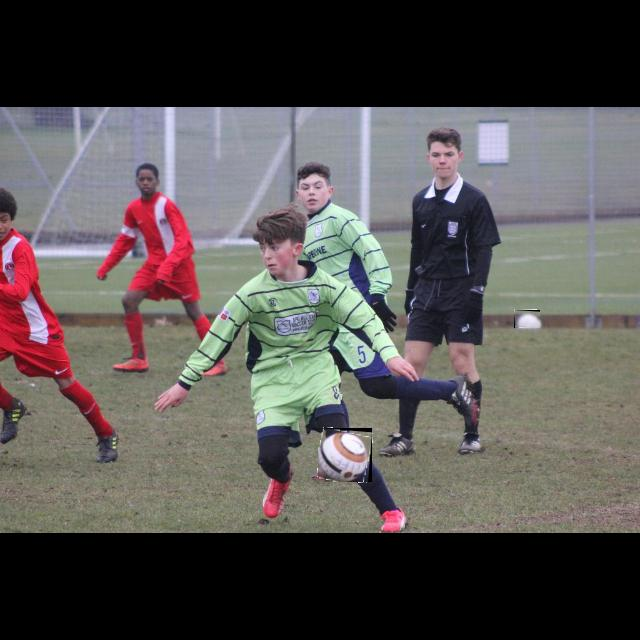Football: (318, 428, 372, 482), (514, 310, 540, 328)
